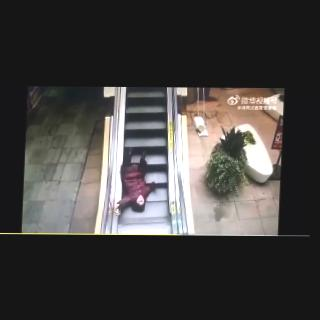anomaly: (111, 146, 159, 218)
